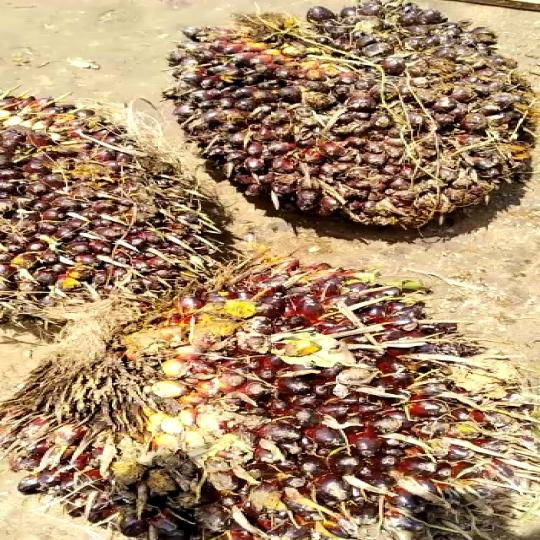kurang masak: (14, 258, 503, 540), (179, 0, 540, 243), (0, 88, 259, 341)
